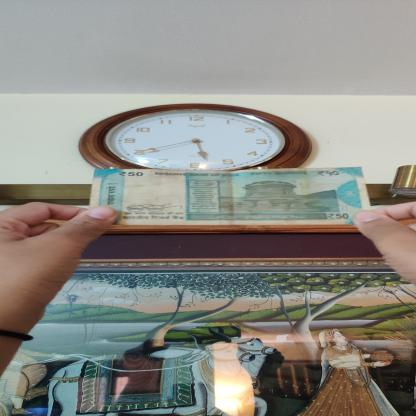New50Back: (88, 166, 371, 226)
